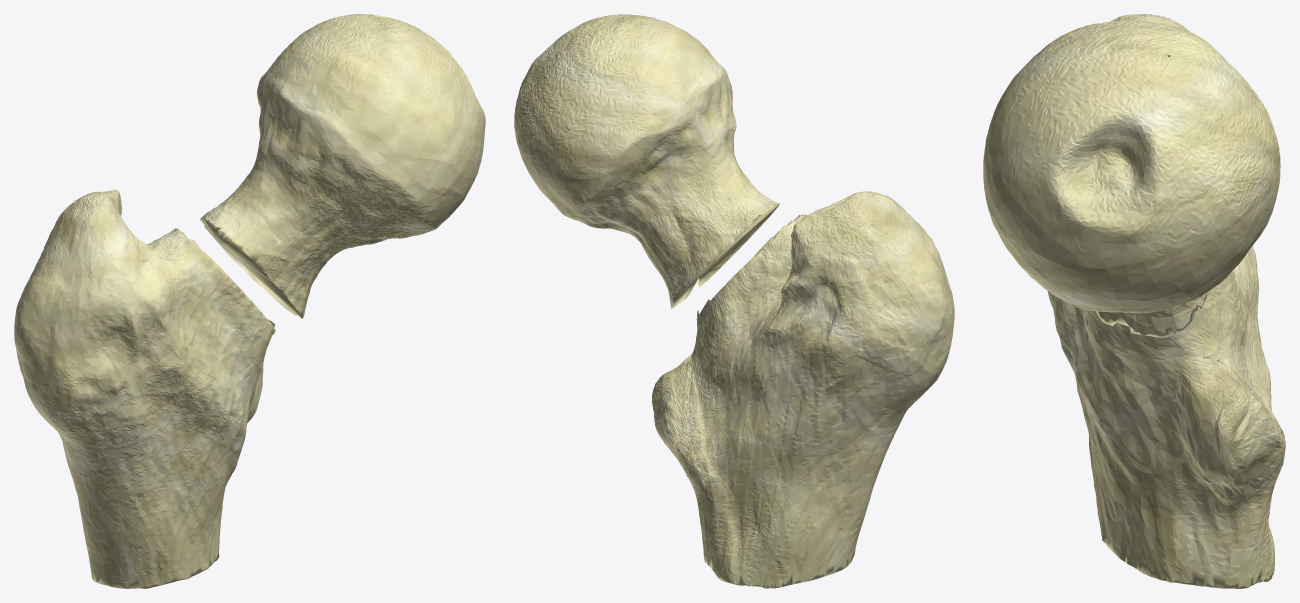
Rendered from TranscervicalFractureNEW.fbx.
The picture shows the model from 3 angles, left to right: view 1: azimuth 30°, elevation 25°; view 2: azimuth 150°, elevation 25°; view 3: azimuth 270°, elevation 25°; orthographic projection. The views are drawn at different scales.
Parts seen in each view (by area): view 1: head.002, UnknownTop.001, neck.002, UnknownTop.002, greater trochanter.002, greater trochanter.001; view 2: UnknownTop.001, head.002, neck.002, UnknownTop.002, greater trochanter.002, greater trochanter.001, lesser trochanter.002, lesser trochanter.001; view 3: head.002, UnknownTop.001, UnknownTop.002, lesser trochanter.002, lesser trochanter.001, neck.002, greater trochanter.002.
Boxes of the visible parts, x1,y1,x2,y2 form: head.002: [257, 14, 485, 238]; UnknownTop.001: [49, 347, 253, 588]; neck.002: [200, 113, 388, 318]; UnknownTop.002: [114, 198, 275, 396]; greater trochanter.002: [19, 189, 150, 346]; greater trochanter.001: [14, 300, 113, 433]; UnknownTop.001: [687, 339, 917, 588]; head.002: [514, 14, 732, 224]; neck.002: [587, 108, 779, 308]; UnknownTop.002: [688, 214, 854, 405]; greater trochanter.002: [792, 191, 946, 338]; greater trochanter.001: [856, 276, 954, 400]; lesser trochanter.002: [652, 357, 693, 419]; lesser trochanter.001: [654, 406, 692, 478]; head.002: [983, 20, 1280, 313]; UnknownTop.001: [1047, 274, 1285, 588]; UnknownTop.002: [1054, 245, 1258, 403]; lesser trochanter.002: [1168, 360, 1268, 457]; lesser trochanter.001: [1168, 388, 1284, 500]; neck.002: [1096, 190, 1207, 337]; greater trochanter.002: [1111, 14, 1190, 31].
Bounding box in the file's own units: 165 × 181 × 77.06.
Materials: 1 (1 with a texture image).
